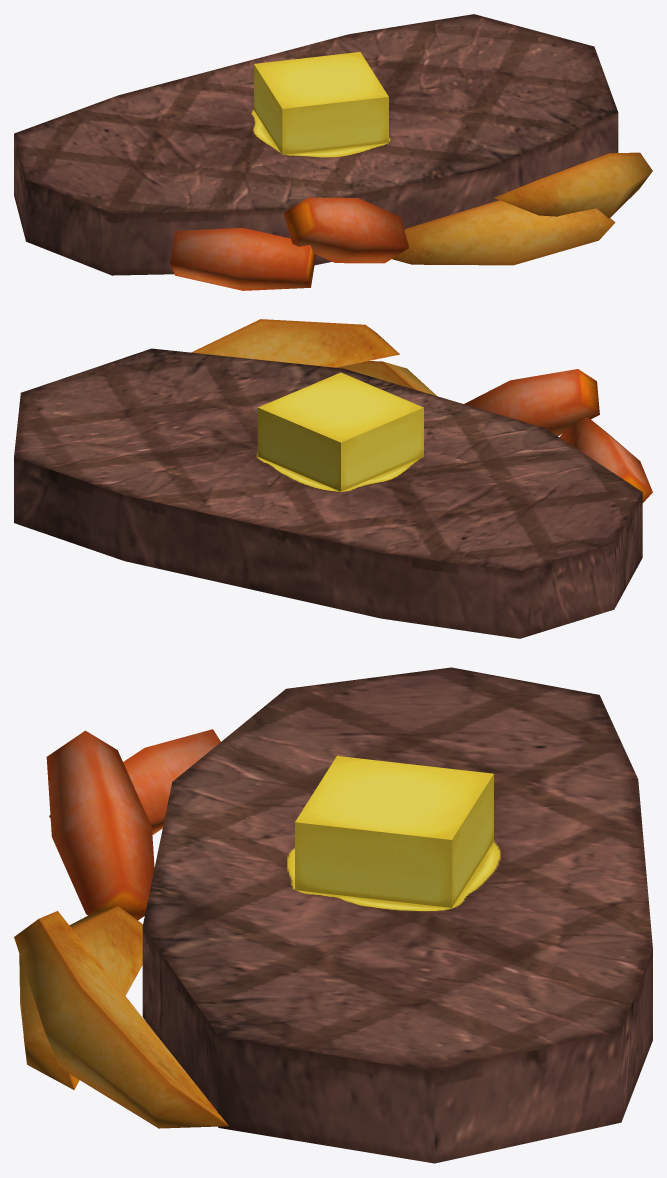
File: BeefSteak.fbx
3 views of the same model, one above another, from view 1: azimuth 30°, elevation 25°; view 2: azimuth 150°, elevation 25°; view 3: azimuth 270°, elevation 25° (orthographic). The views are drawn at different scales.
Visible parts, largest first — view 1: Empty_Mesh; view 2: Empty_Mesh; view 3: Empty_Mesh.
Part boxes in pixels (x1,y1,x2,y2): Empty_Mesh: [14, 14, 652, 290]; Empty_Mesh: [14, 319, 652, 638]; Empty_Mesh: [14, 667, 652, 1163].
Bounding box in the file's own units: 0.4749 × 0.0876 × 0.3169.
